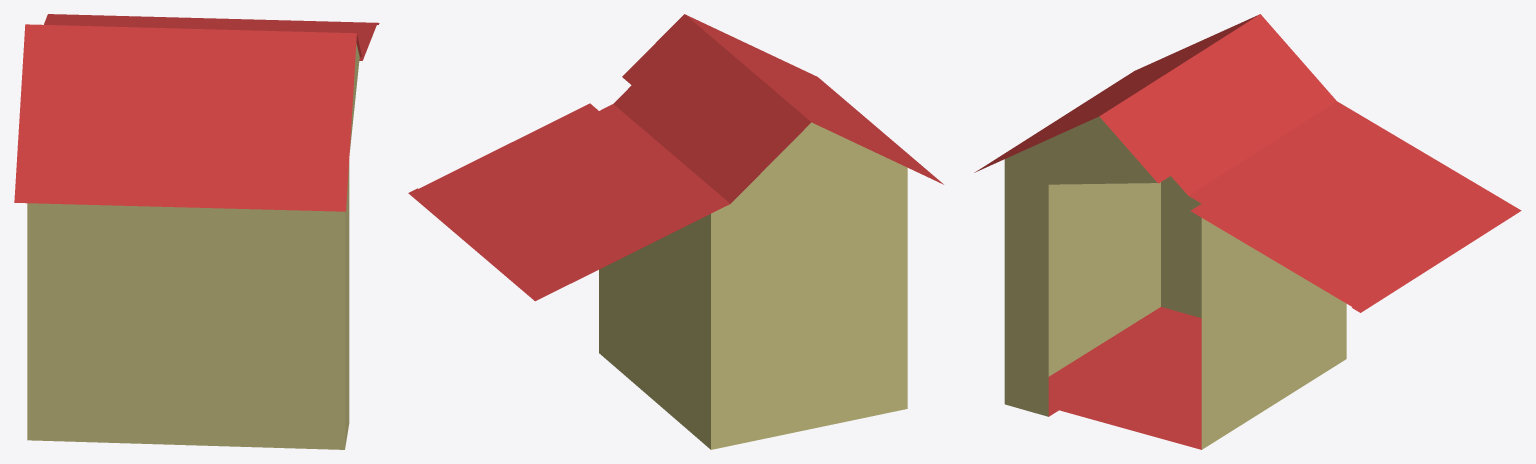
3 views of the same model, side by side, from view 1: azimuth 30°, elevation 25°; view 2: azimuth 150°, elevation 25°; view 3: azimuth 270°, elevation 25° (orthographic). The views are drawn at different scales.
Bounding box in the file's own units: 18 × 19.75 × 12.56.
